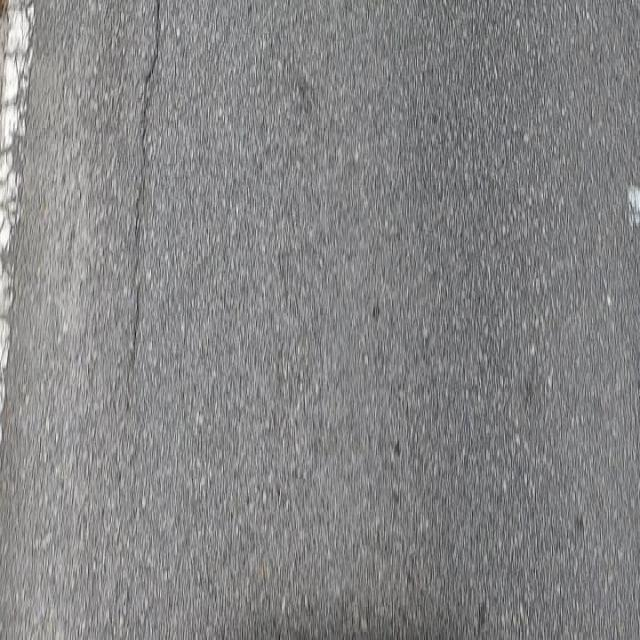cracks: (118, 3, 180, 432)
